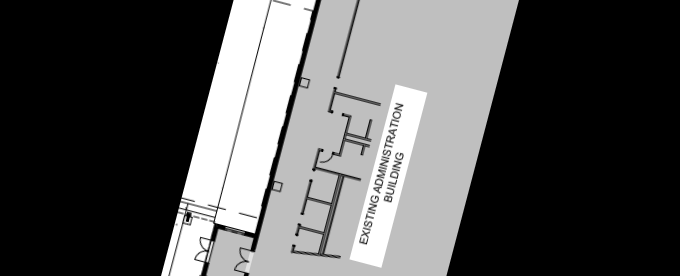double door: (191, 233, 217, 267), (230, 243, 254, 276)
wall: (247, 0, 361, 257), (209, 270, 252, 276)
